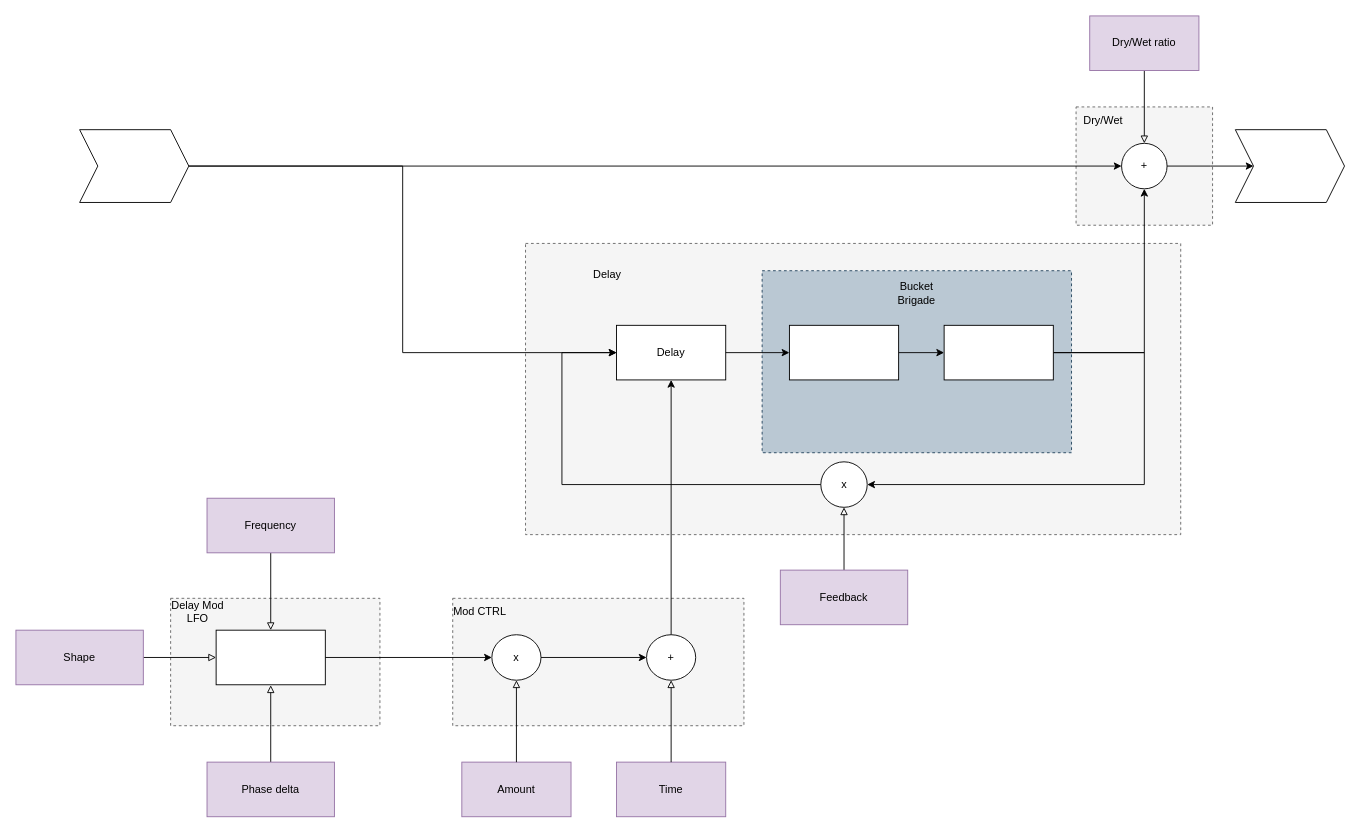
Image size: 1360x833. Some labels were removed from this diagram. Here are the shapes that lost their labels. From the top down, the centre of each, then its label:
[134,165]: Audio Input
[1289,165]: Audio output
[844,352]: Distorsore
[998,352]: Low Pass
[270,657]: LFO
